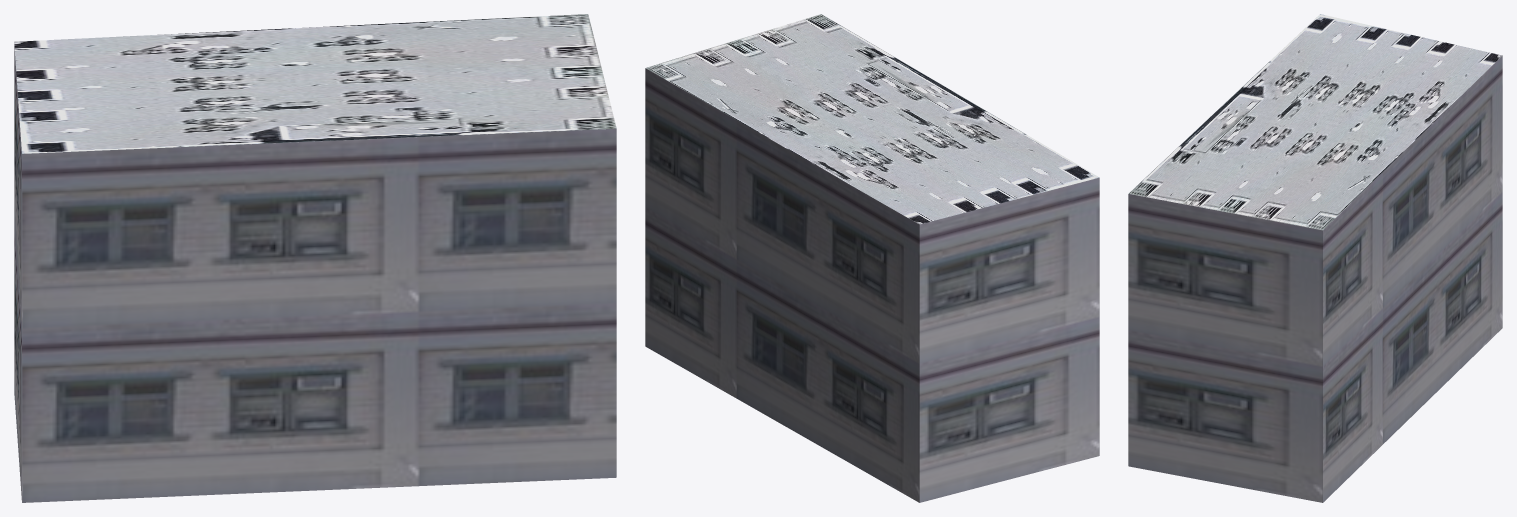
The model's file is ResTex__1051.fbx.
The picture shows the model from 3 angles, left to right: view 1: azimuth 30°, elevation 25°; view 2: azimuth 150°, elevation 25°; view 3: azimuth 270°, elevation 25°; orthographic projection. The views are drawn at different scales.
Visible parts, largest first — view 1: CityEngineMaterial_1_m, CityEngineMaterial_8_m; view 2: CityEngineMaterial_1_m, CityEngineMaterial_8_m; view 3: CityEngineMaterial_1_m, CityEngineMaterial_8_m.
Part boxes in pixels (x1,y1,x2,y2): CityEngineMaterial_1_m: (14, 46, 616, 502); CityEngineMaterial_8_m: (14, 14, 616, 153); CityEngineMaterial_1_m: (645, 68, 1099, 502); CityEngineMaterial_8_m: (645, 14, 1099, 224); CityEngineMaterial_1_m: (1128, 56, 1502, 502); CityEngineMaterial_8_m: (1128, 14, 1502, 230).
Size of the model in its own units: 10.22 by 6 by 7.47.
2 materials, 2 textured.
